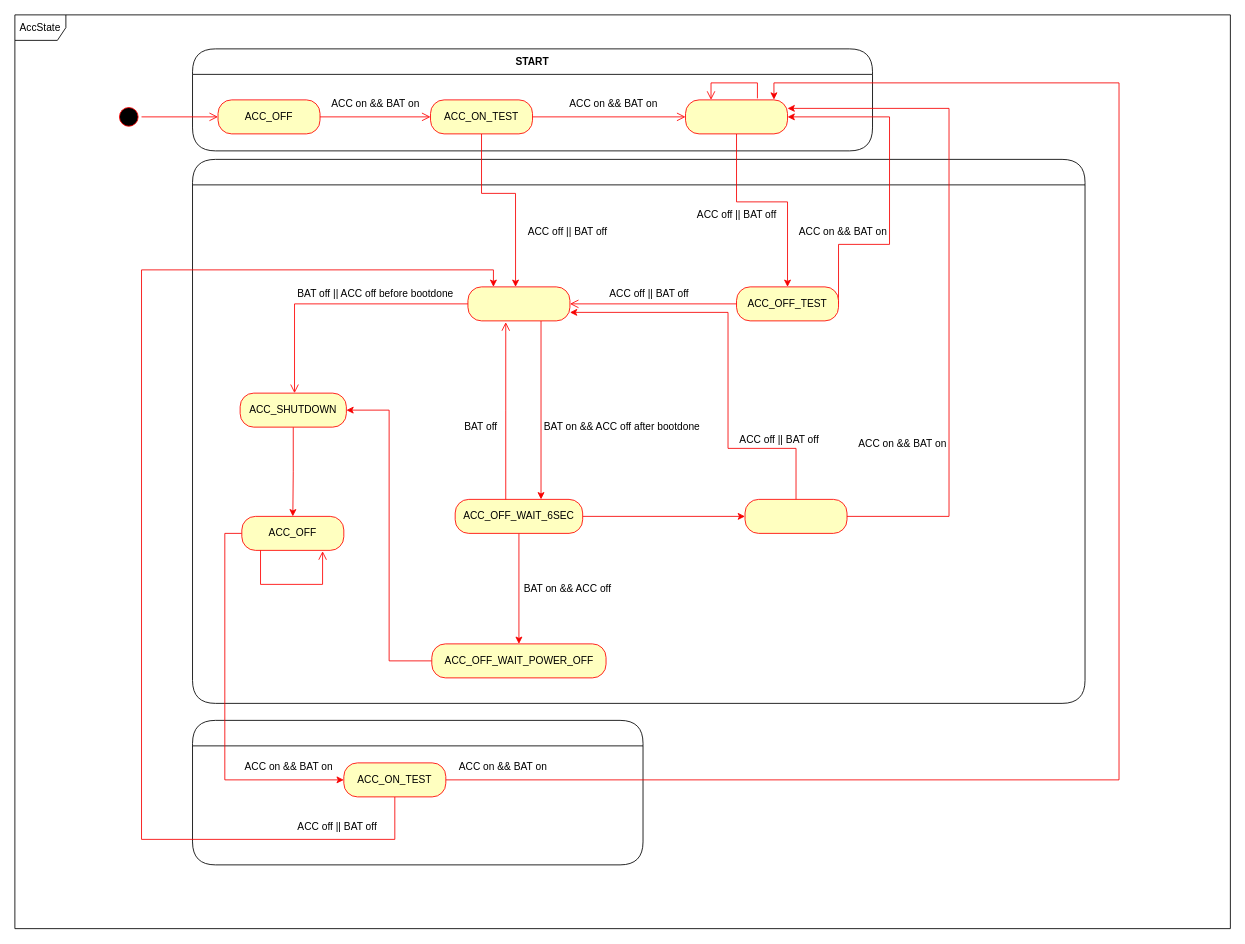
Image size: 1245x944. Some labels were removed from this diagram. Each missing label, with the box of its shape:
ACC_OFF_PSEUDO: (467, 286, 570, 321)
ACC_ON: (685, 99, 788, 134)
ACC_ON_PSEUDO: (744, 499, 847, 533)
STOP: (192, 159, 1085, 703)
WAKEUP: (192, 720, 643, 865)
